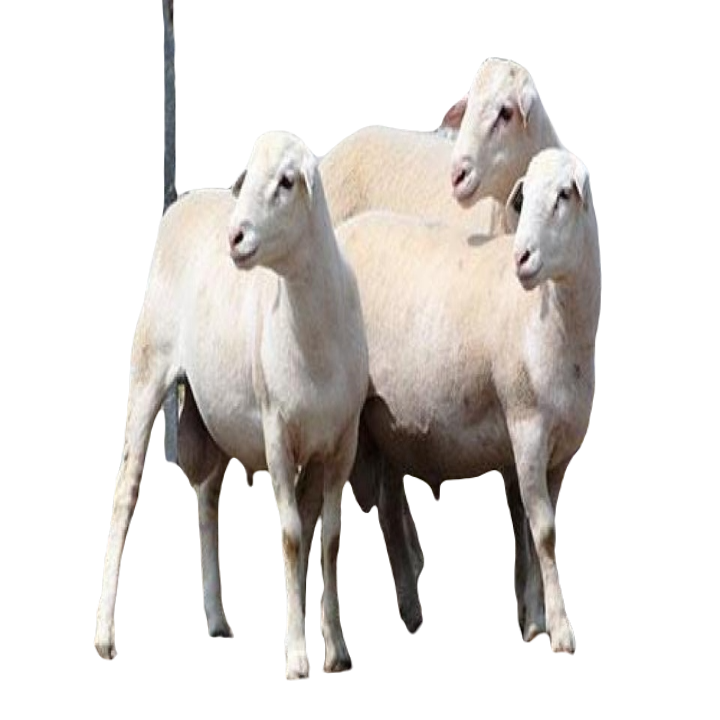Sheep: (86, 132, 371, 686), (376, 145, 604, 664)
